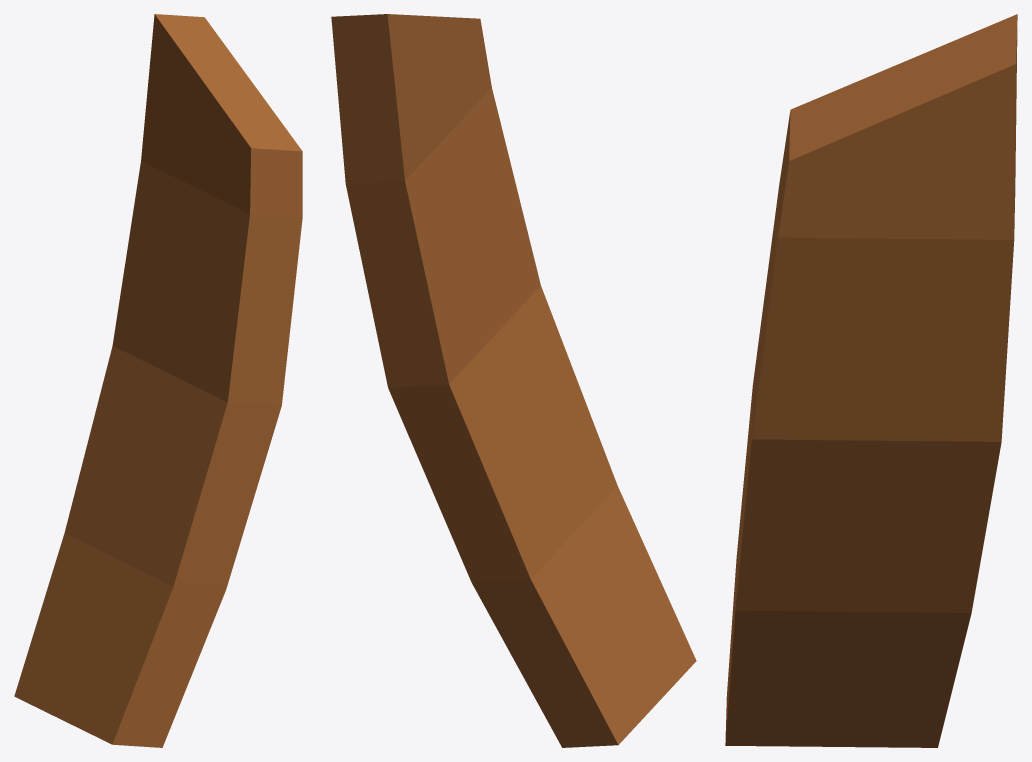
File: barrel-022.glb
3 views of the same model, side by side, from view 1: azimuth 30°, elevation 25°; view 2: azimuth 150°, elevation 25°; view 3: azimuth 270°, elevation 25° (orthographic). The views are drawn at different scales.
Parts seen in each view (by area): view 1: barrel.022; view 2: barrel.022; view 3: barrel.022.
Boxes of the visible parts, x1,y1,x2,y2 form: barrel.022: (14, 14, 302, 747); barrel.022: (331, 14, 696, 747); barrel.022: (725, 14, 1017, 747).
Size of the model in its own units: 1.26 by 3.33 by 1.09.
